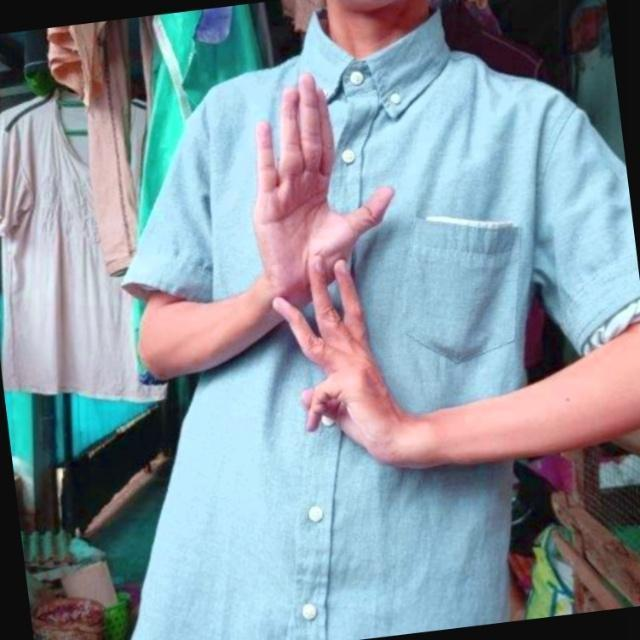M: (239, 67, 401, 360)
